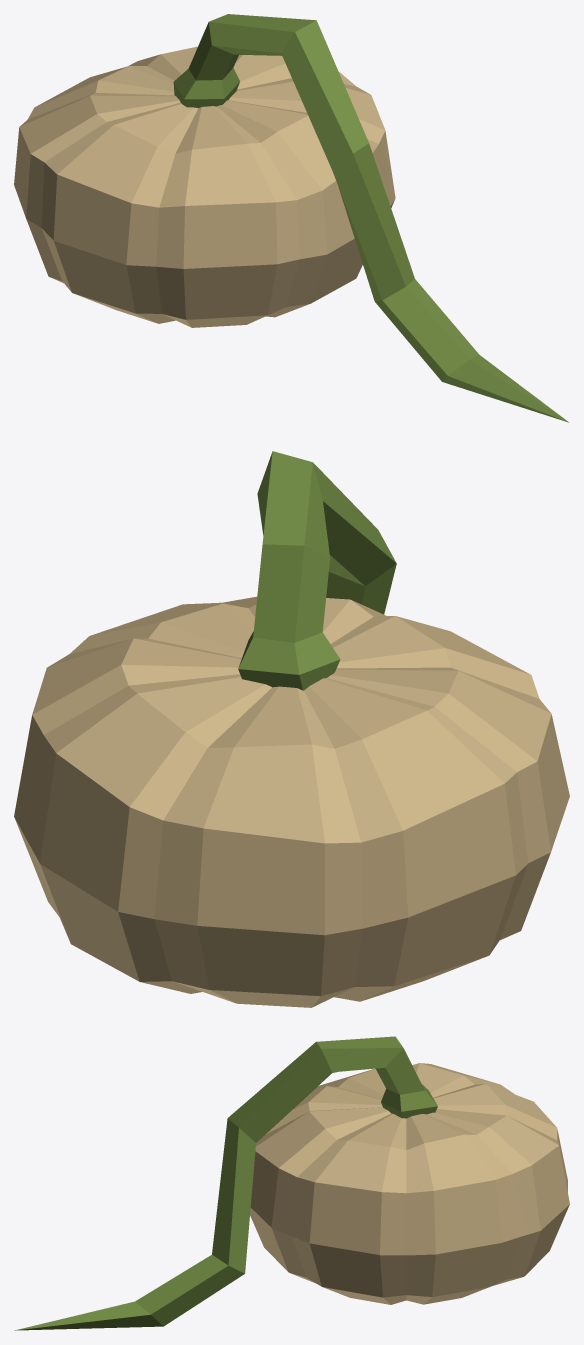
Rendered from SM_Prop_Pumpkin_White_01_L.glb.
3 views of the same model, one above another, from view 1: azimuth 30°, elevation 25°; view 2: azimuth 150°, elevation 25°; view 3: azimuth 270°, elevation 25° (orthographic). The views are drawn at different scales.
Visible parts, largest first — view 1: SM_Prop_Pumpkin_White_01_L; view 2: SM_Prop_Pumpkin_White_01_L; view 3: SM_Prop_Pumpkin_White_01_L.
Boxes of the visible parts, x1=… form: SM_Prop_Pumpkin_White_01_L: x1=14, y1=14, x2=568, y2=422; SM_Prop_Pumpkin_White_01_L: x1=14, y1=451, x2=569, y2=1007; SM_Prop_Pumpkin_White_01_L: x1=14, y1=1036, x2=569, y2=1330.
Bounding box in the file's own units: 0.3936 × 0.3406 × 0.6686.
Materials: 1 (1 with a texture image).
